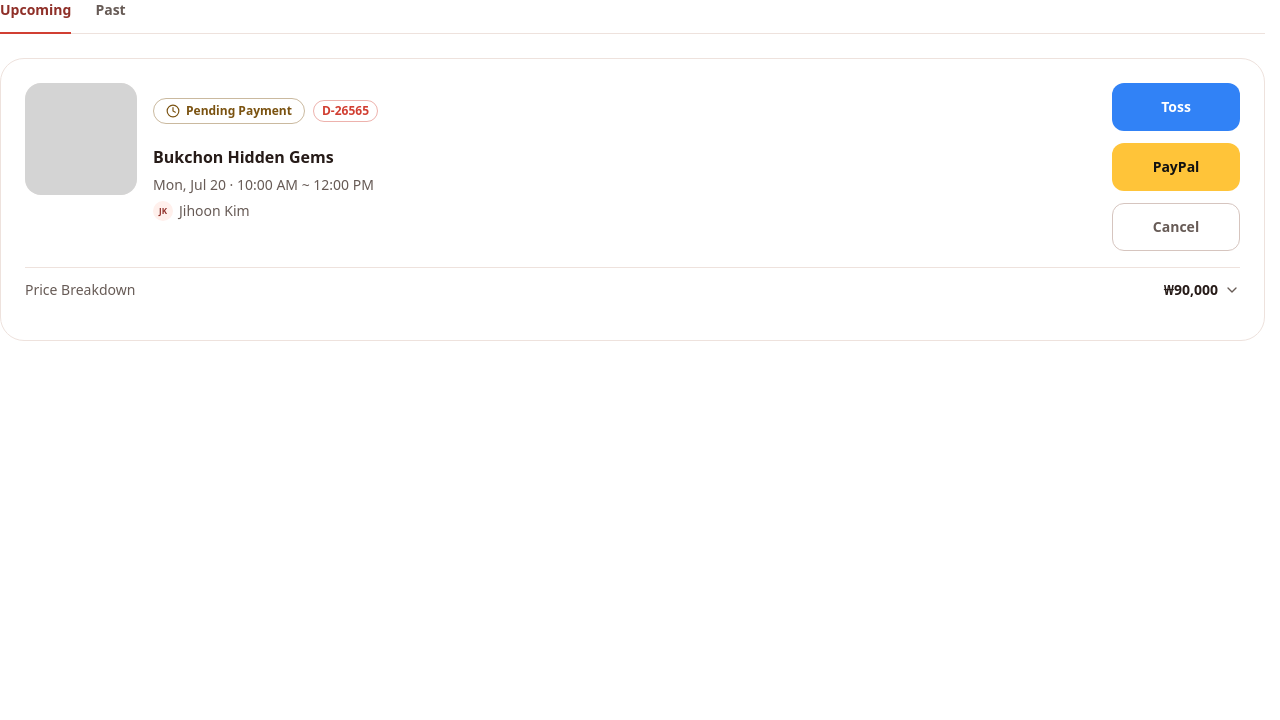
Test: ApplicationsContent › removes a pending application from the list after cancelling it
Click the button "Cancel". click: x=1176, y=227
box: [1112,203,1240,251]
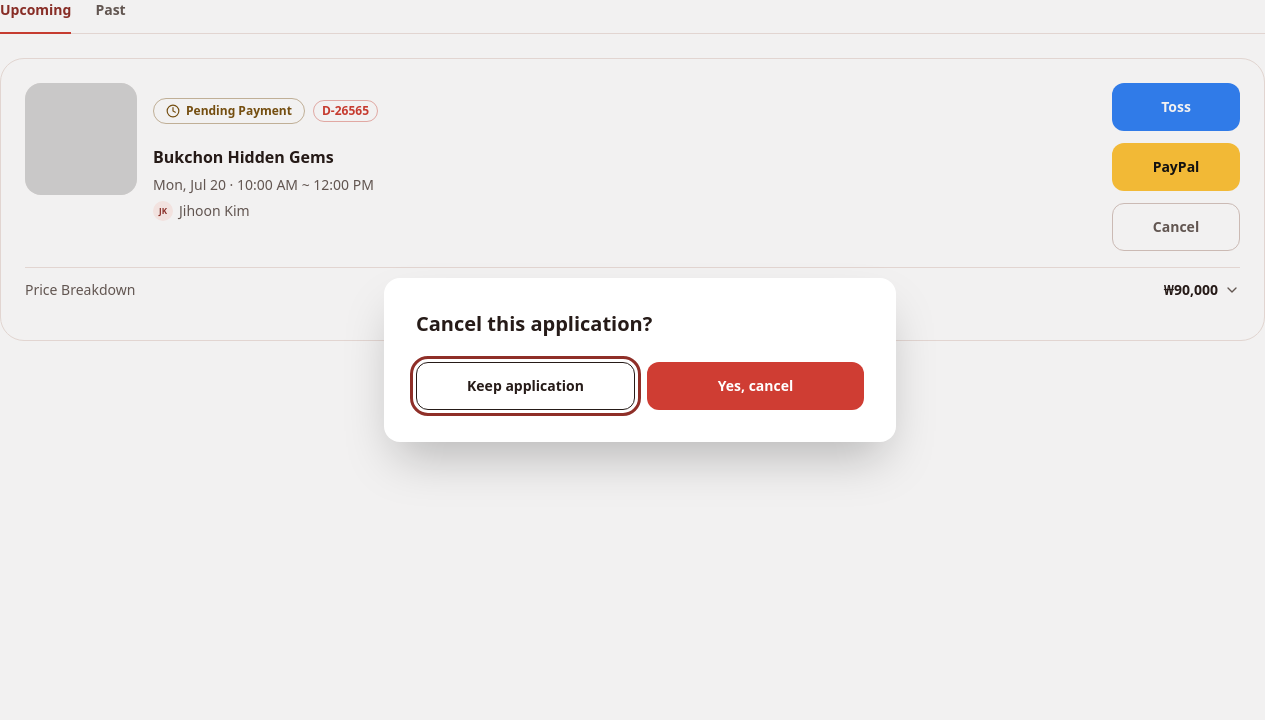
Click the button "Yes, cancel". click: x=756, y=386
box: [647,362,864,410]
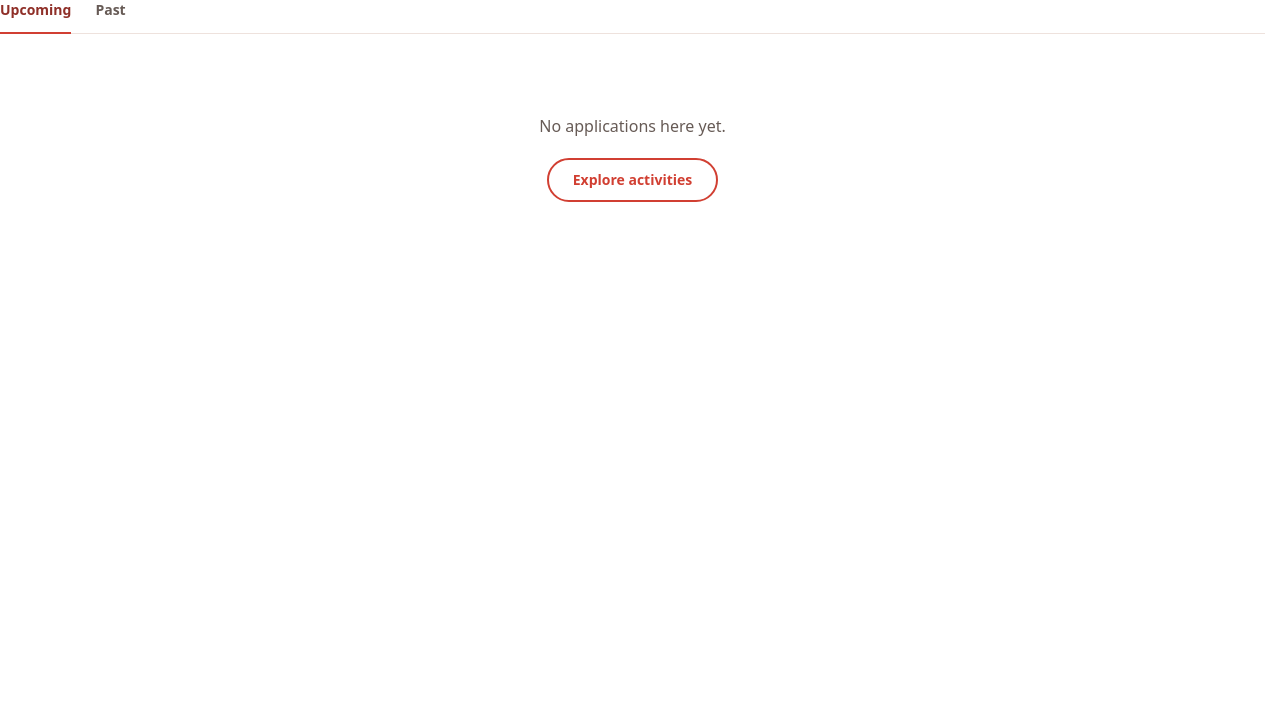
Expected: the link "Bukchon Hidden Gems" is gone
